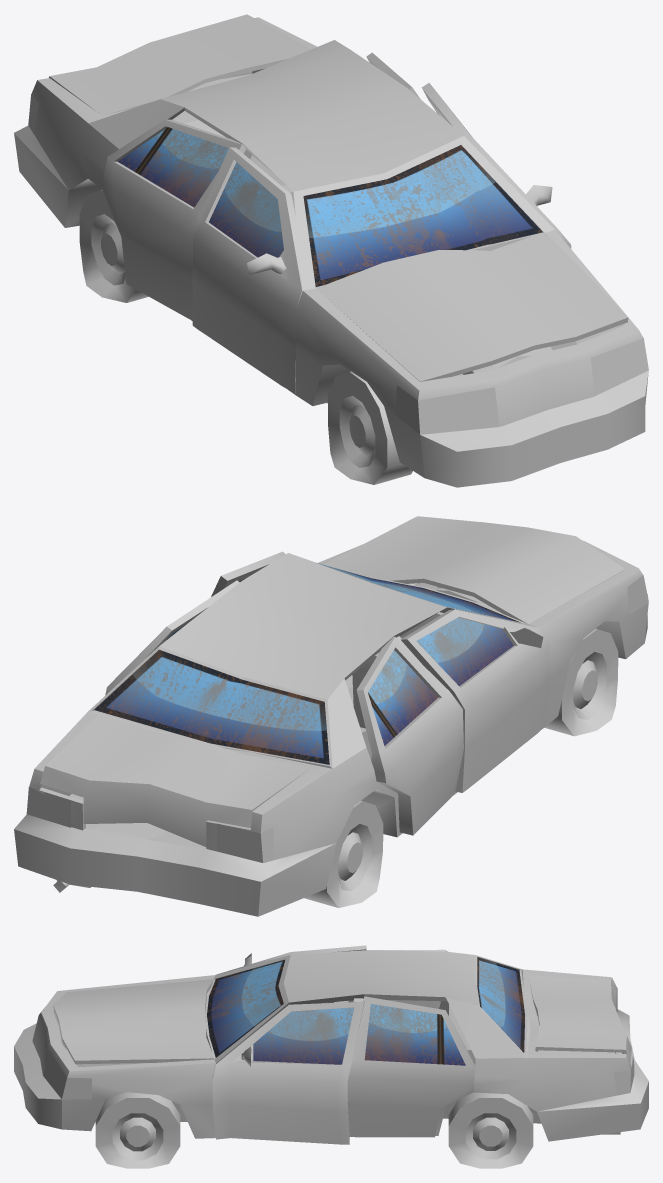
Rendered from Veh_Sedan_B.FBX.
The picture shows the model from 3 angles, top to bottom: view 1: azimuth 30°, elevation 25°; view 2: azimuth 150°, elevation 25°; view 3: azimuth 270°, elevation 25°; orthographic projection. The views are drawn at different scales.
Visible parts, largest first — view 1: Veh_Sedan_B, hood, glass_windshieldFront, door_frontR, trunk, door_backR, wheel_frontR, glass_backR, glass_frontR, wheel_backR, light_frontR, light_frontL (+1 smaller); view 2: Veh_Sedan_B, trunk, hood, glass_windshieldRear, door_frontR, door_backR, wheel_frontR, wheel_backR, glass_frontR, glass_backR, light_rearR, glass_windshieldFront (+5 smaller); view 3: Veh_Sedan_B, door_frontL, hood, door_backL, trunk, wheel_backL, wheel_frontL, glass_backL, glass_windshieldFront, glass_frontL, glass_windshieldRear, light_frontL (+4 smaller).
Boxes of the visible parts, <box> form: Veh_Sedan_B: <box>14,17,648,487</box>; hood: <box>316,232,628,381</box>; glass_windshieldFront: <box>303,145,542,286</box>; door_frontR: <box>192,147,302,393</box>; trunk: <box>49,14,310,115</box>; door_backR: <box>102,119,245,320</box>; wheel_frontR: <box>327,371,412,484</box>; glass_backR: <box>118,127,228,207</box>; glass_frontR: <box>209,162,283,257</box>; wheel_backR: <box>79,190,148,302</box>; light_frontR: <box>395,385,499,434</box>; light_frontL: <box>590,338,648,395</box>; Veh_Sedan_B: <box>14,540,648,916</box>; trunk: <box>40,714,311,846</box>; hood: <box>324,516,625,624</box>; glass_windshieldRear: <box>94,650,329,764</box>; door_frontR: <box>401,609,549,792</box>; door_backR: <box>356,636,463,835</box>; wheel_frontR: <box>544,629,618,736</box>; wheel_backR: <box>304,801,383,907</box>; glass_frontR: <box>416,617,513,686</box>; glass_backR: <box>368,650,437,745</box>; light_rearR: <box>217,823,273,862</box>; glass_windshieldFront: <box>318,563,520,622</box>; Veh_Sedan_B: <box>14,950,648,1141</box>; door_frontL: <box>212,1001,364,1144</box>; hood: <box>53,979,214,1064</box>; door_backL: <box>347,996,475,1137</box>; trunk: <box>528,975,631,1062</box>; wheel_backL: <box>448,1092,533,1168</box>; wheel_frontL: <box>95,1092,180,1168</box>; glass_backL: <box>364,1004,465,1065</box>; glass_windshieldFront: <box>207,960,284,1057</box>; glass_frontL: <box>253,1007,354,1064</box>; glass_windshieldRear: <box>477,957,524,1052</box>; light_frontL: <box>43,1051,91,1099</box>.
Bounding box in the file's own units: 208 × 137 × 517.
